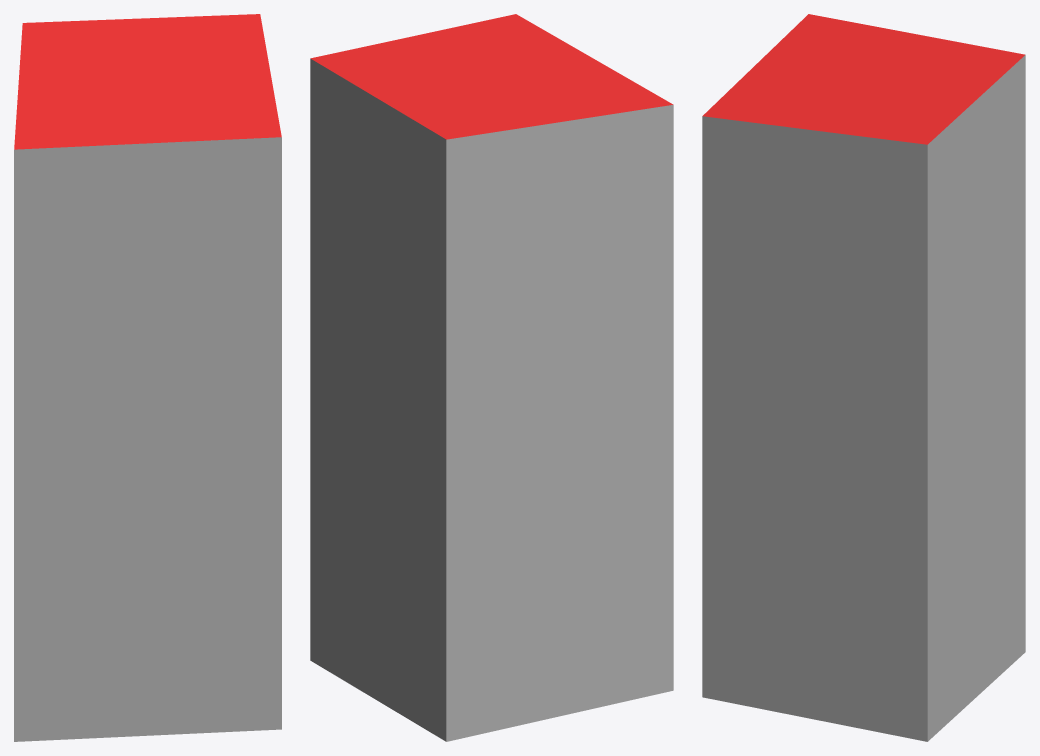
Rendered from DEBY_LOD2_4908152.dae.
The picture shows the model from 3 angles, left to right: view 1: azimuth 30°, elevation 25°; view 2: azimuth 150°, elevation 25°; view 3: azimuth 270°, elevation 25°; orthographic projection.
Bounding box in the file's own units: 5.46 × 5.08 × 10.36.
